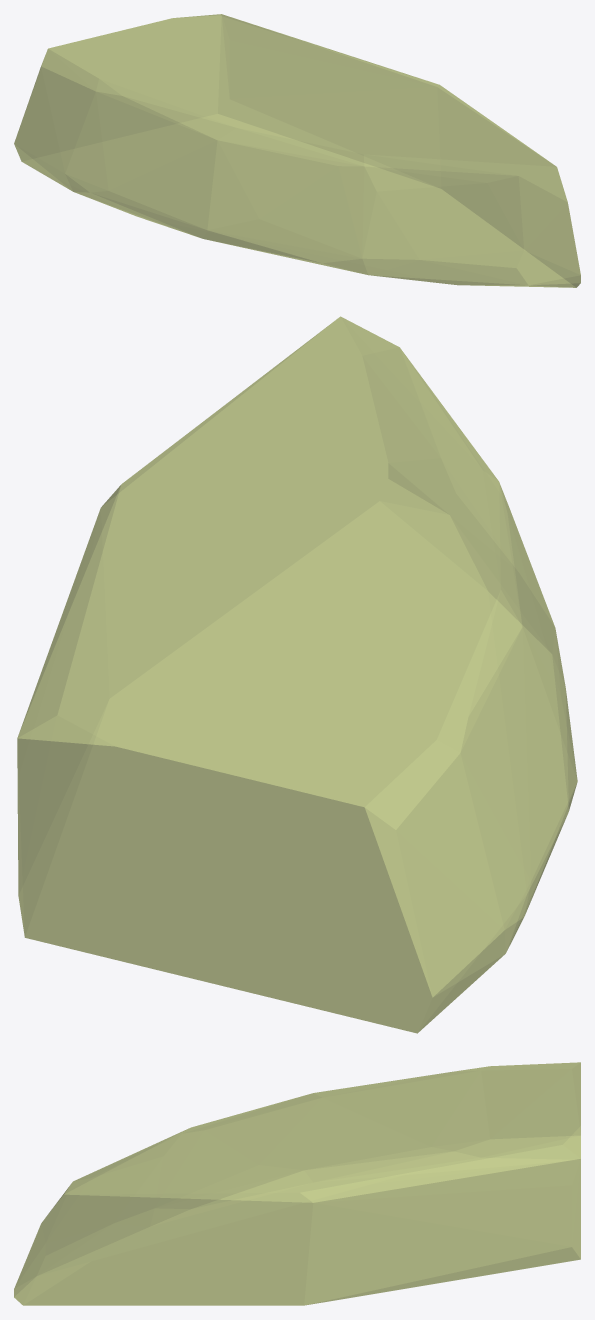
3 renders of one model, top to bottom at view 1: azimuth 30°, elevation 25°; view 2: azimuth 150°, elevation 25°; view 3: azimuth 270°, elevation 25°, orthographic. The views are drawn at different scales.
Parts seen in each view (by area): view 1: Shape_IndexedFaceSet.002_Shape_IndexedFaceSet.1224; view 2: Shape_IndexedFaceSet.002_Shape_IndexedFaceSet.1224; view 3: Shape_IndexedFaceSet.002_Shape_IndexedFaceSet.1224.
Part boxes in pixels (box(x1,y1,x2,y2)): Shape_IndexedFaceSet.002_Shape_IndexedFaceSet.1224: box(14, 14, 580, 287); Shape_IndexedFaceSet.002_Shape_IndexedFaceSet.1224: box(17, 316, 577, 1033); Shape_IndexedFaceSet.002_Shape_IndexedFaceSet.1224: box(14, 1062, 580, 1305).
Bounding box in the file's own units: 0.1554 × 0.0538 × 0.2489.
